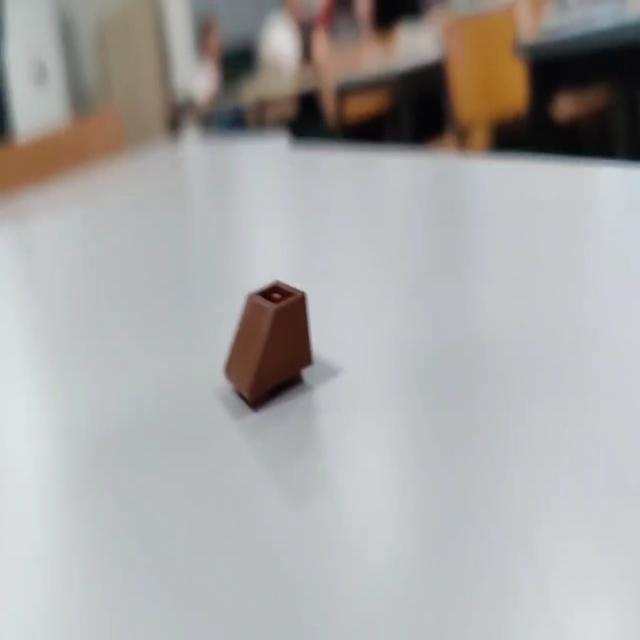X2x2x1: (222, 276, 314, 408)
